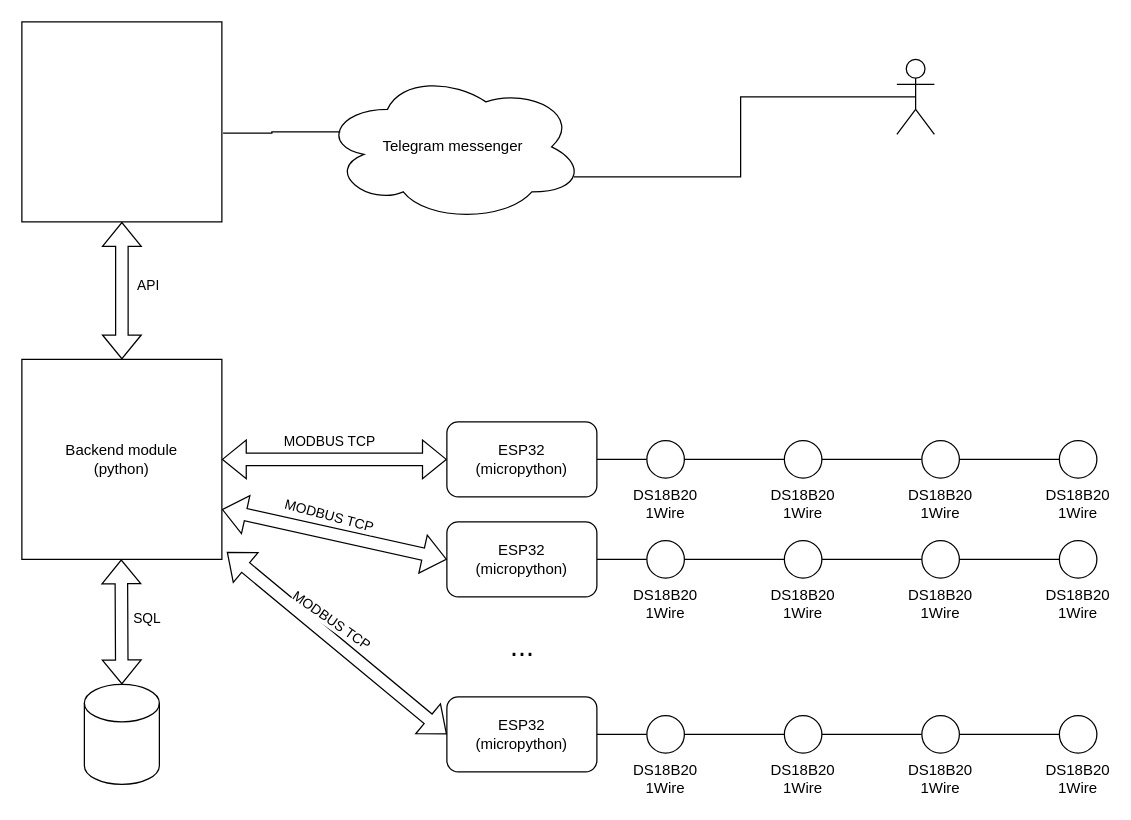
Image size: 1131x820. Some labels were removed from this diagram. The shapes that lost their labels are listed below. From the top down, each one's box as (x1, y1, x2, y2) in pixels, then its label:
(896, 58, 934, 134): User
(21, 21, 222, 222): Frontend module telegram bot ERRBOT (python)
(83, 683, 159, 784): СУБД MariaDB
